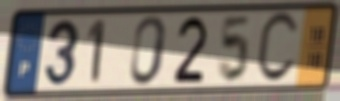0: (128, 14, 169, 88)
1: (86, 17, 106, 87)
2: (172, 15, 209, 86)
3: (42, 17, 83, 89)
5: (214, 13, 254, 84)
C: (253, 10, 301, 87)
